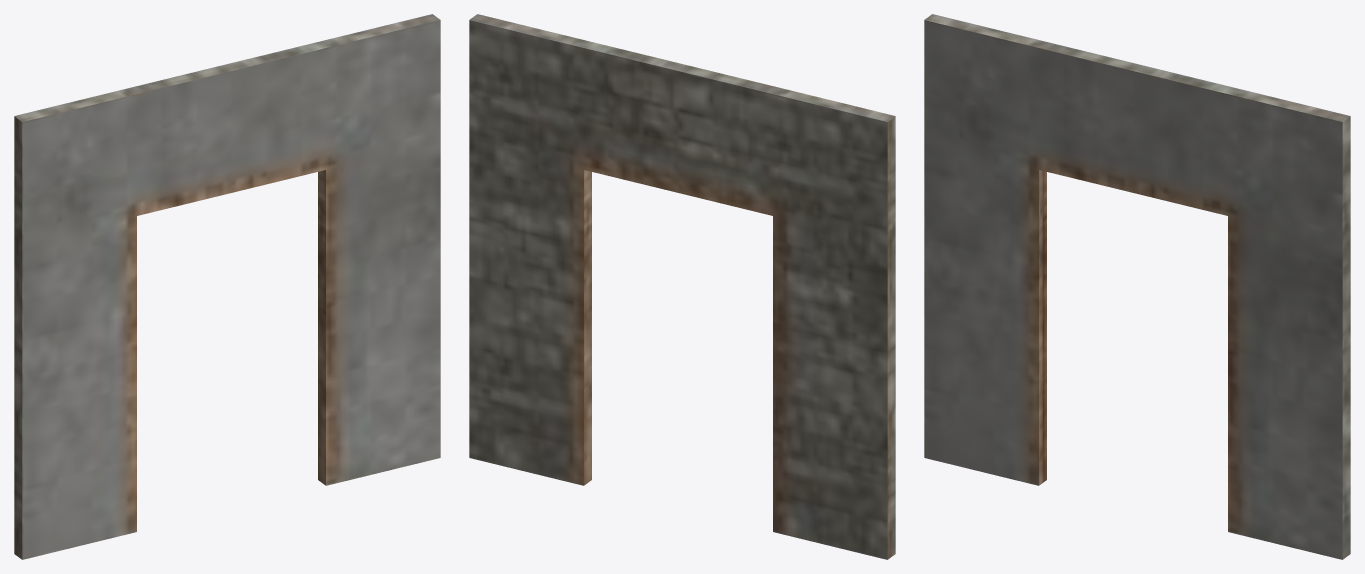
Rendered from stone_doorway_textured.glb.
The picture shows the model from 3 angles, left to right: view 1: azimuth 30°, elevation 25°; view 2: azimuth 150°, elevation 25°; view 3: azimuth 330°, elevation 25°; orthographic projection.
Visible parts, largest first — view 1: Cube.002; view 2: Cube.002; view 3: Cube.002.
Boxes of the visible parts, box(x1,y1,x2,y2) form: Cube.002: box(14, 14, 440, 559); Cube.002: box(469, 14, 895, 559); Cube.002: box(924, 14, 1350, 559).
Bounding box in the file's own units: 2 × 2 × 0.0681.
1 material, 1 textured.
